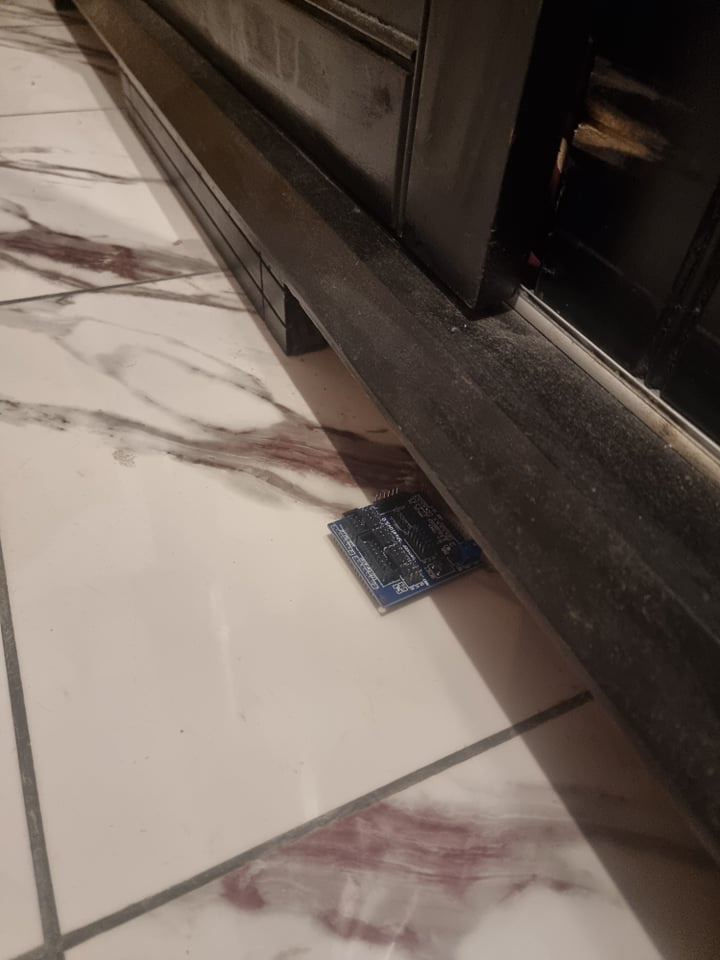5V EXPANSION: (324, 492, 488, 620)
